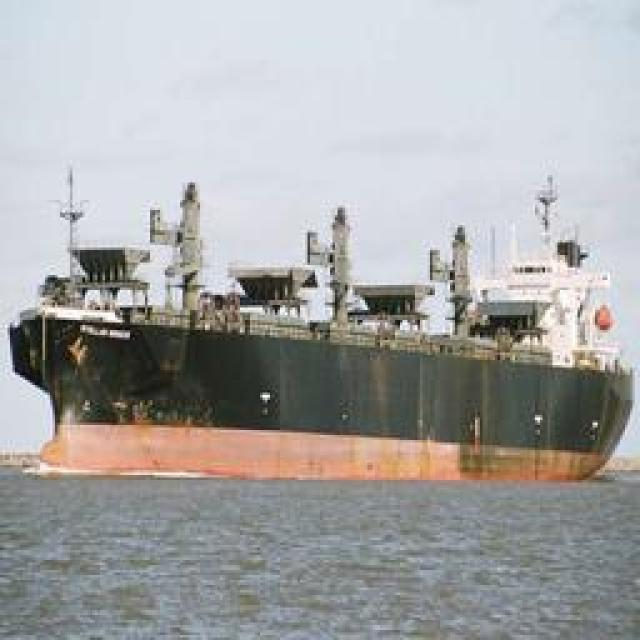CIV_Ship: (15, 154, 633, 488)
